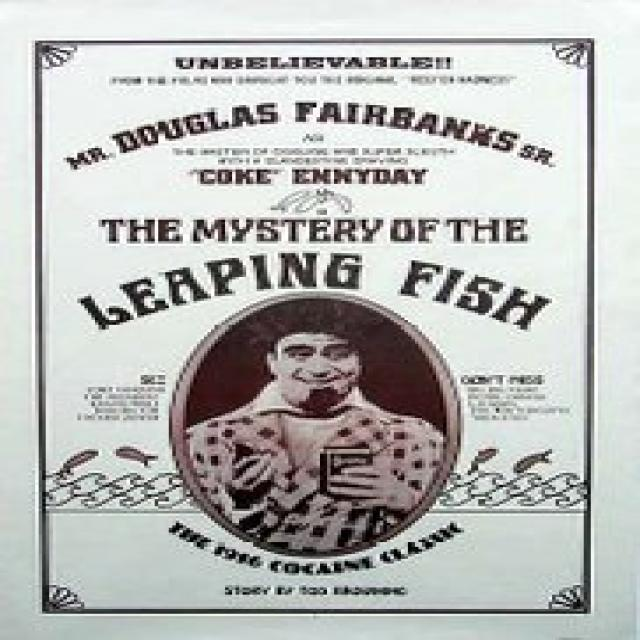movie-judul: (77, 208, 555, 336)
picture: (194, 324, 447, 548)
